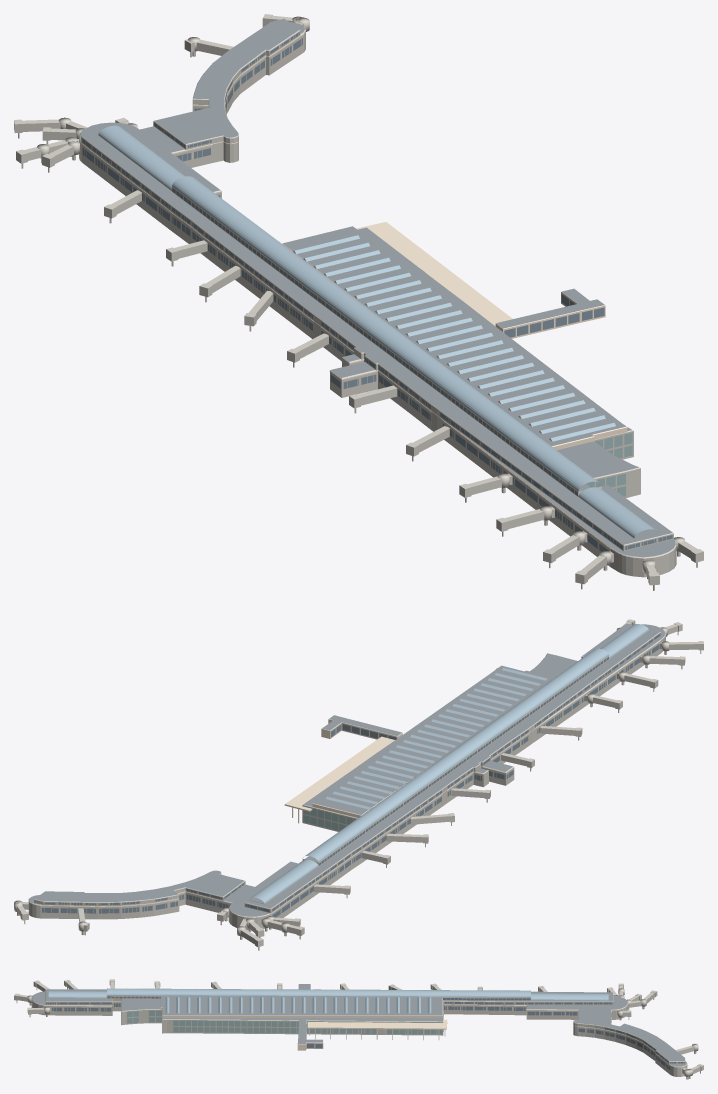
Rendered from chi-ohare-terminal-1.detail.glb.
3 renders of one model, top to bottom at view 1: azimuth 30°, elevation 25°; view 2: azimuth 150°, elevation 25°; view 3: azimuth 270°, elevation 25°, orthographic. The views are drawn at different scales.
Parts seen in each view (by area): view 1: O'Hare Terminal 1 and Concourse B; view 2: O'Hare Terminal 1 and Concourse B; view 3: O'Hare Terminal 1 and Concourse B.
Boxes of the visible parts, x1,y1,x2,y2 form: O'Hare Terminal 1 and Concourse B: (14,14,703,590); O'Hare Terminal 1 and Concourse B: (14,619,703,950); O'Hare Terminal 1 and Concourse B: (14,979,703,1079).
Bounding box in the file's own units: 192 × 19.2 × 603.
